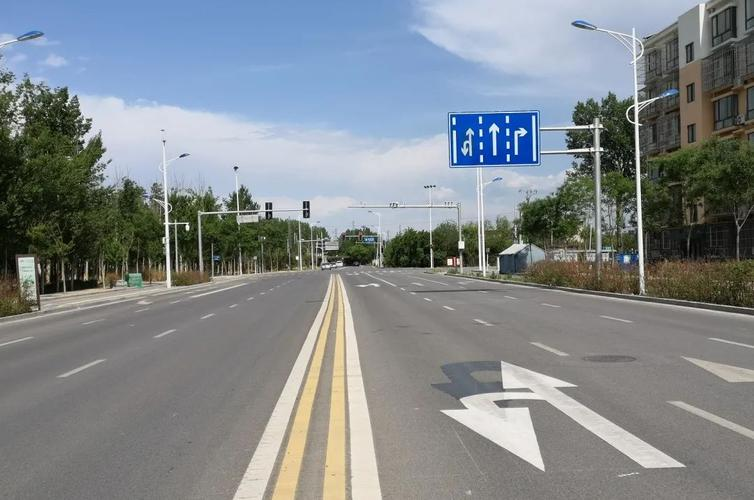sign: (449, 112, 539, 167)
traffic light: (264, 200, 273, 222), (302, 201, 311, 218)
